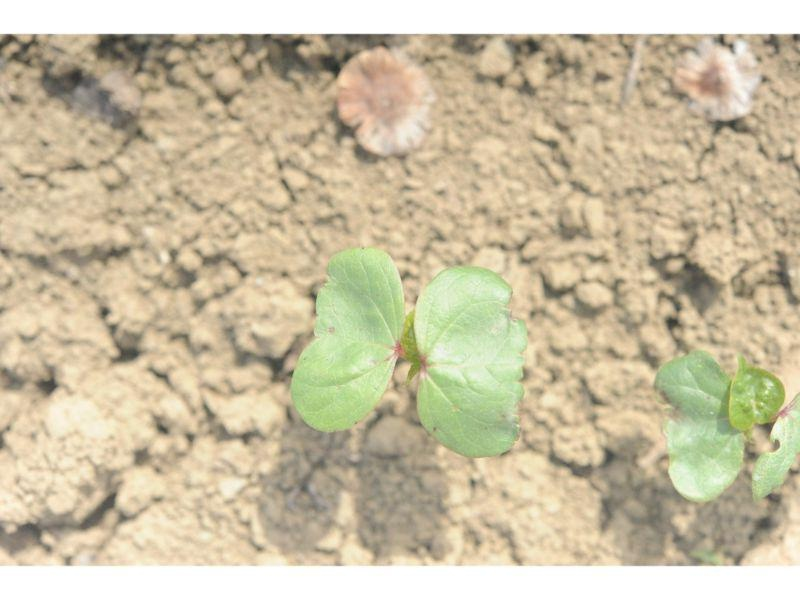cotton: (290, 243, 528, 460), (652, 348, 798, 508)
